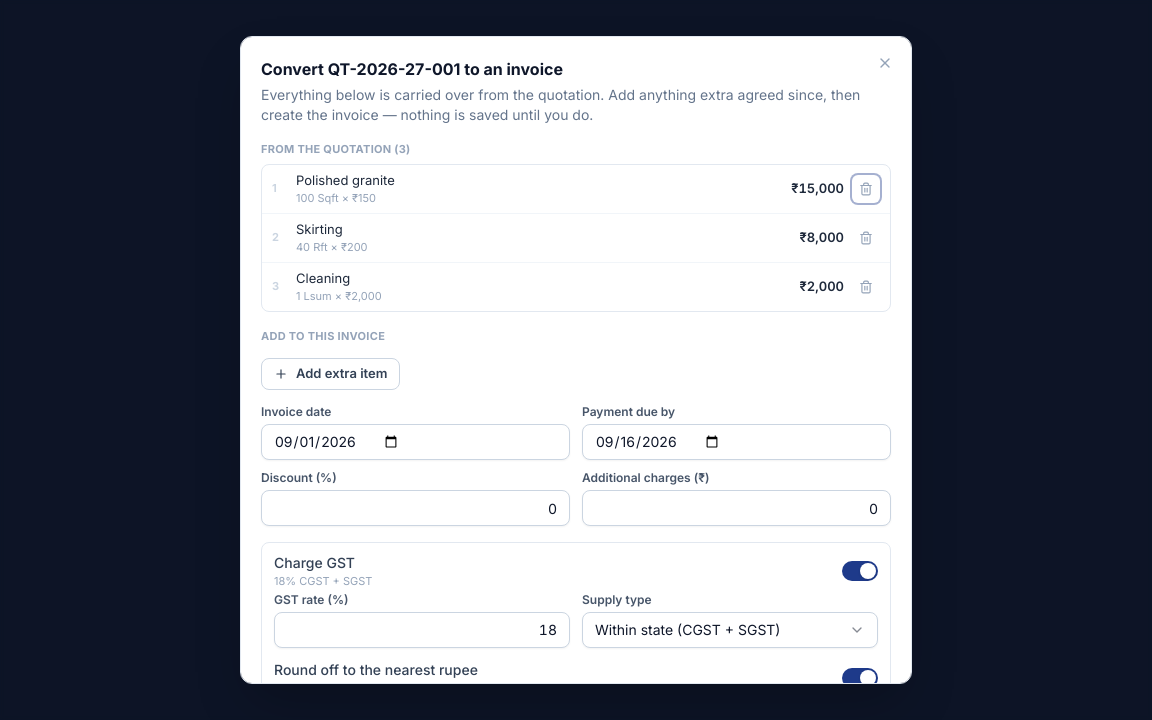
ConvertToInvoiceDialog › refuses to create an invoice with nothing on it
Expected: the text "Polished granite" is shown, left=296, top=172, right=395, bottom=188
Click the button named "Do not bill this line" in the row of "Polished granite". click: [866, 188]
box: left=852, top=174, right=880, bottom=202
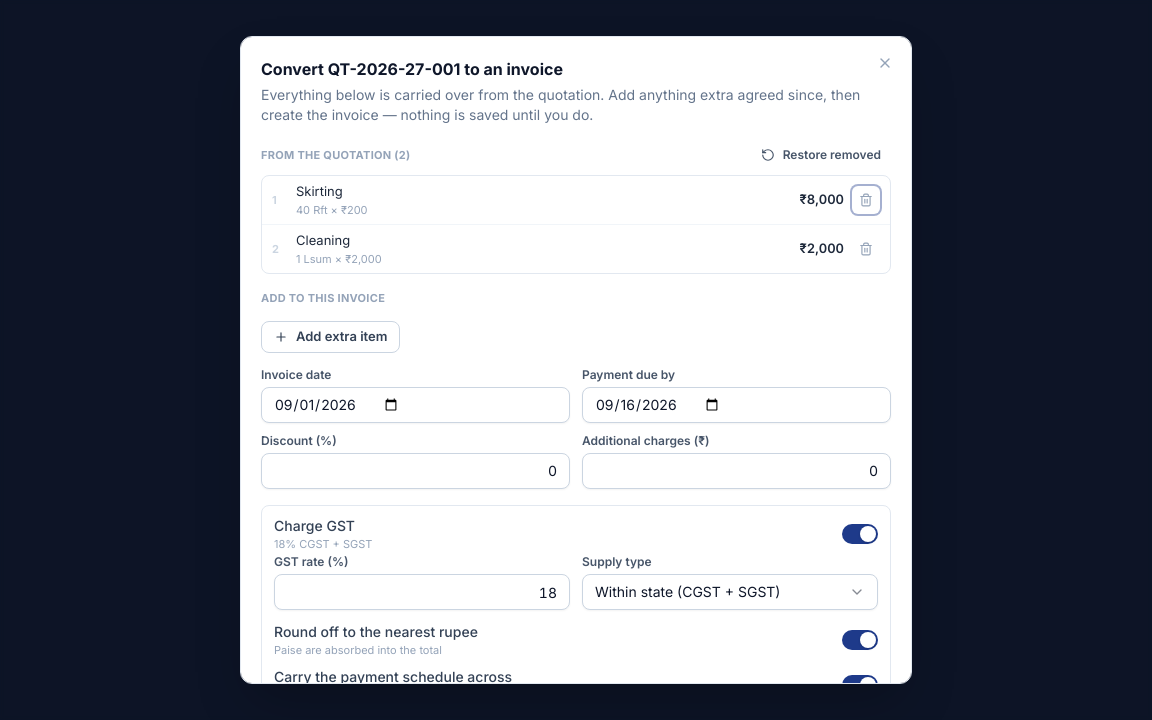
Click the button named "Do not bill this line" in the row of "Skirting". click: [866, 200]
box: left=852, top=186, right=880, bottom=214
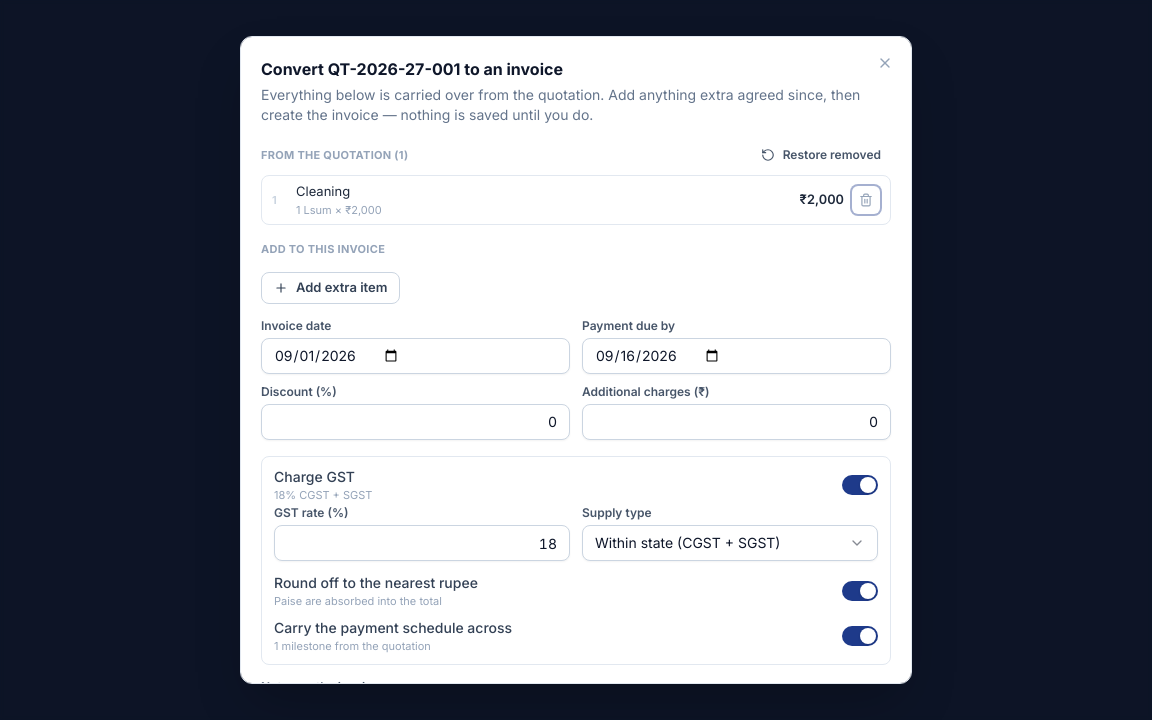
Click the button named "Do not bill this line". click: [866, 200]
box: left=852, top=186, right=880, bottom=214
(page scrolled)
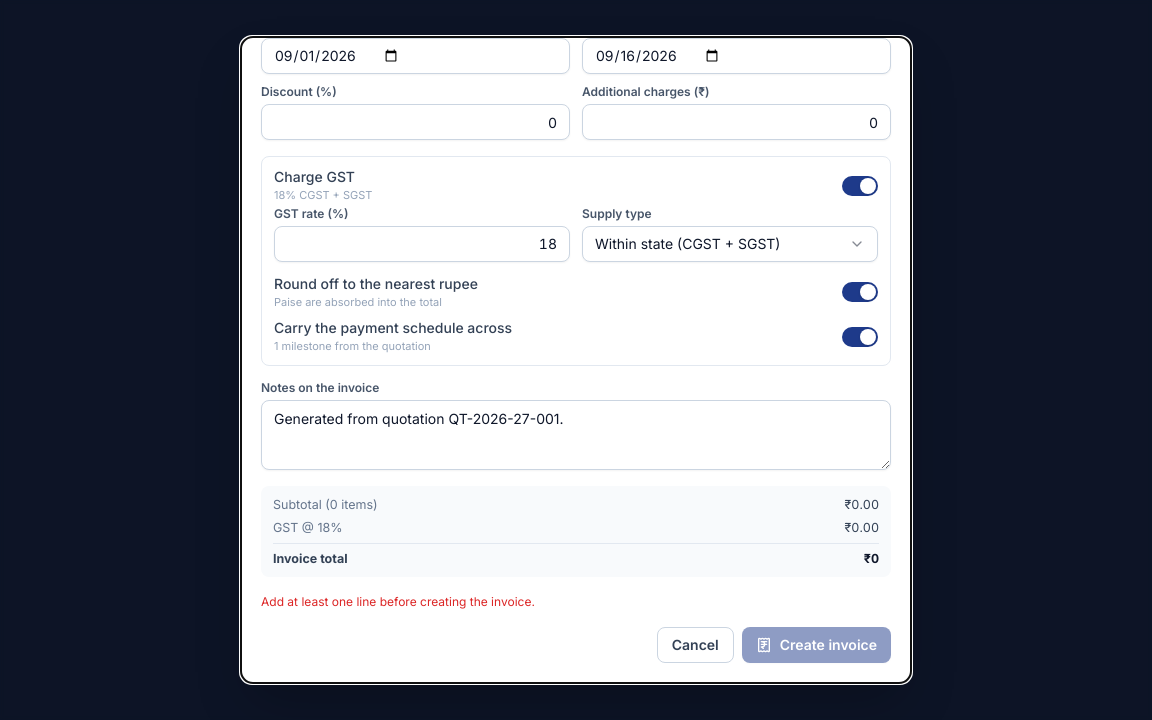
Now the text "Add at least one line before creating the invoice." is shown, box left=261, top=594, right=535, bottom=609
Now the button "Create invoice" is disabled, box left=742, top=627, right=891, bottom=663
